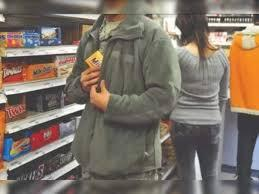shoplifting: (62, 29, 135, 123)
